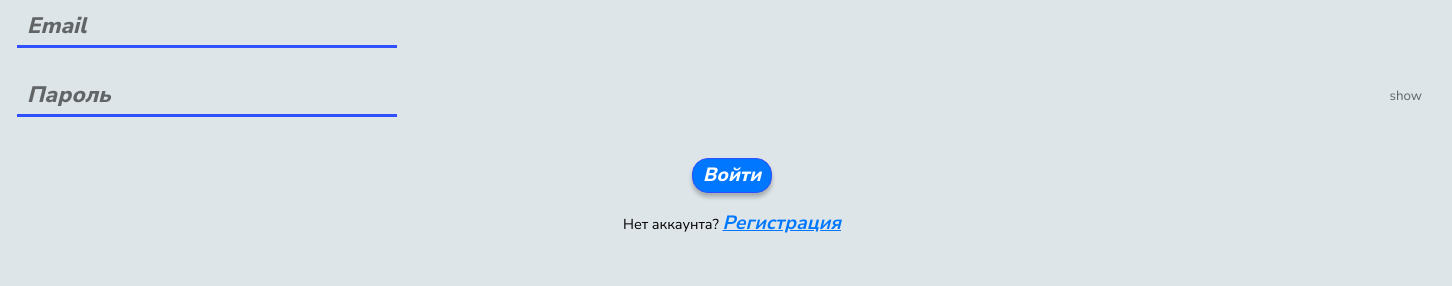
Test case: LoginForm › should show a generic error message when the mutation rejects with a non-HttpError
Type "user@example.com" into the field with placeholder "Email" at (207, 26), box [17,5,397,48]
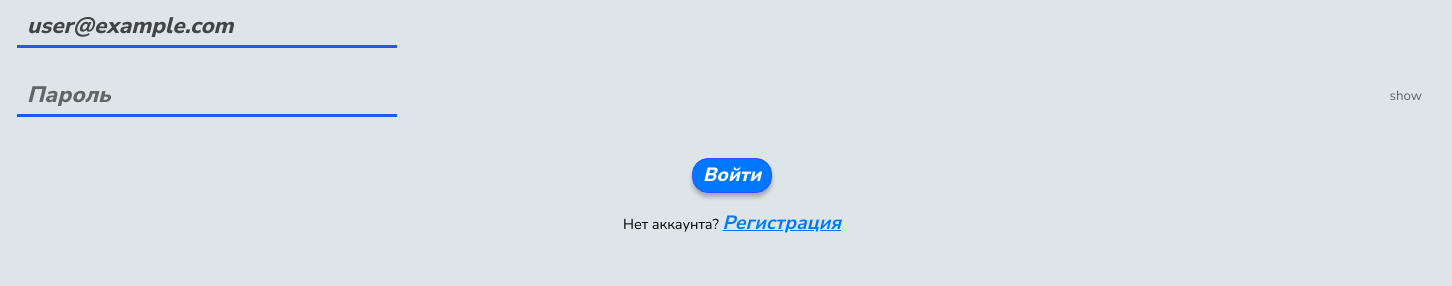
Type "secret1" into the password field with placeholder "Пароль" at (207, 96), box [17,74,397,117]
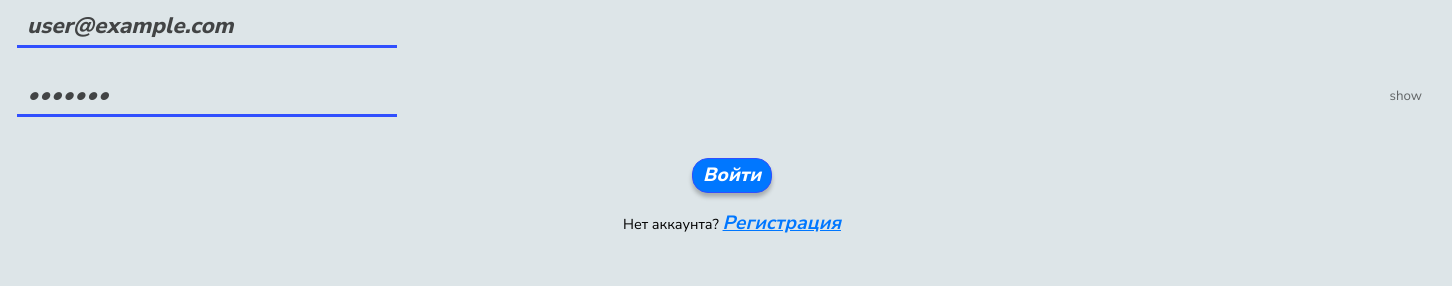
Click the button "Войти" at (732, 175), box [692,158,772,193]
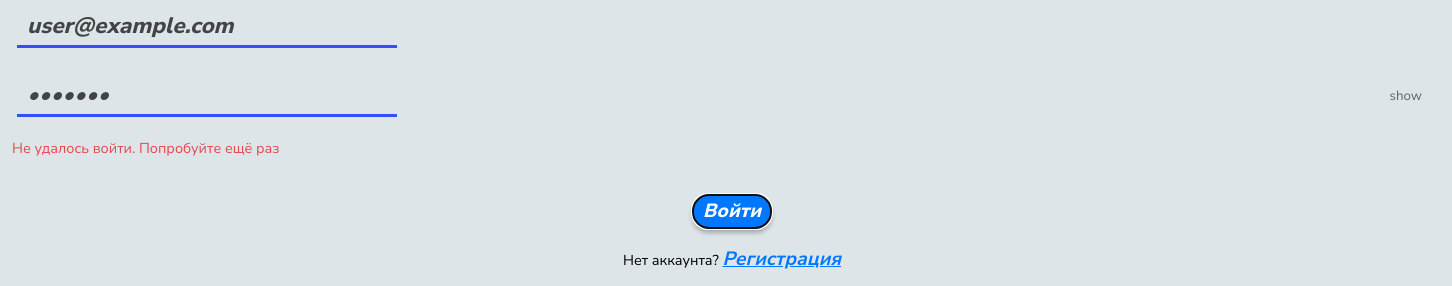
expect the text "Не удалось войти. Попробуйте ещё раз" is shown: met, box [12,138,1451,158]
